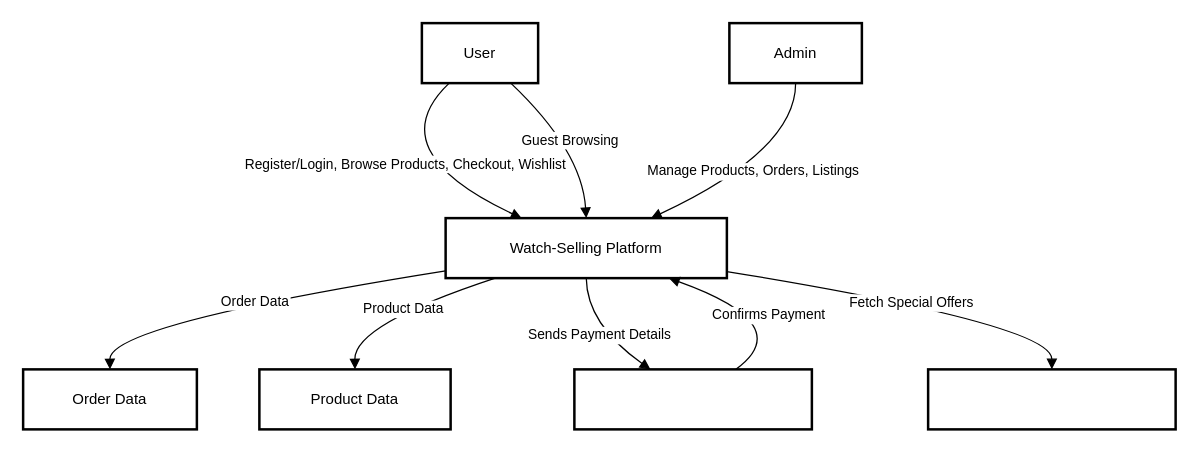
This 1198x451 diagram has some shape labels left out. The shapes that lost their labels are listed below. From the top down, each one's centre as x and y in pixels, then its label:
At [692,399]: "Payment Gateway".
At [1051,399]: "Special Offers Data".
